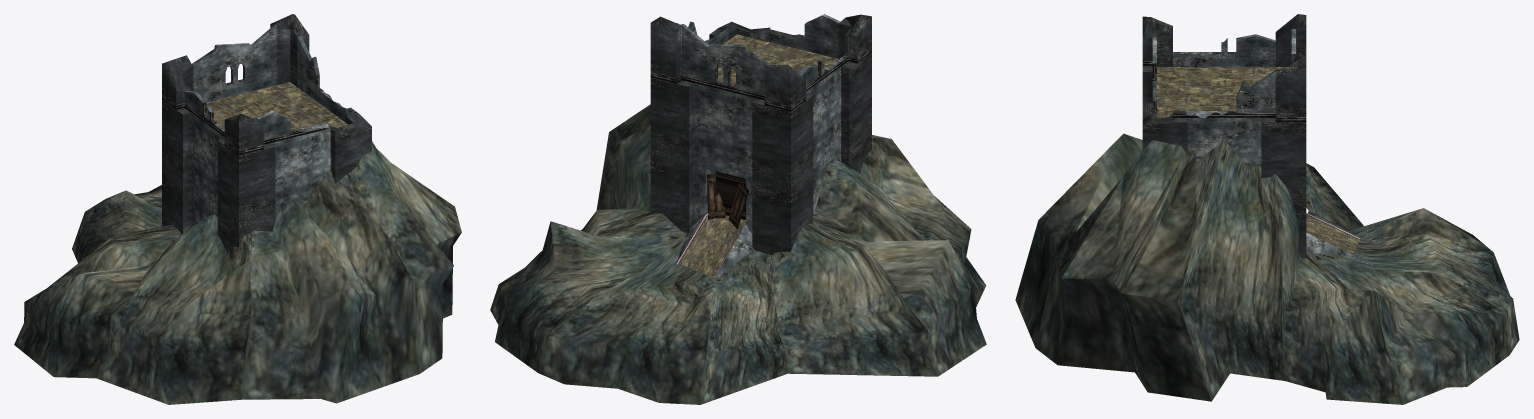
File: pir_m_prp_ocn_watchtower_eitcDestroyed.fbx
3 renders of one model, left to right at view 1: azimuth 30°, elevation 25°; view 2: azimuth 150°, elevation 25°; view 3: azimuth 270°, elevation 25°, orthographic. The views are drawn at different scales.
Visible parts, largest first — view 1: rock, tower_lower, tower_middle1, roof, rubble_1, tower_middle, tower_lower1, trim; view 2: rock, tower_lower, tower_middle, ramp, roof, rubble_1, tower_lower1, trim, door1, tower_middle1, door; view 3: rock, tower_lower, roof, tower_middle, rubble_1, tower_lower1, tower_middle1, ramp, trim.
Part boxes in pixels (x1,y1,x2,y2): rock: [14, 141, 461, 404]; tower_lower: [162, 99, 371, 253]; tower_middle1: [180, 26, 316, 91]; roof: [206, 82, 347, 130]; rubble_1: [162, 14, 371, 133]; tower_middle: [162, 24, 309, 150]; tower_lower1: [198, 70, 352, 124]; trim: [162, 94, 357, 155]; rock: [490, 104, 986, 404]; tower_lower: [650, 28, 871, 277]; tower_middle: [650, 16, 871, 106]; ramp: [679, 215, 745, 277]; roof: [718, 34, 838, 85]; rubble_1: [651, 14, 871, 79]; tower_lower1: [707, 28, 844, 58]; trim: [650, 28, 871, 111]; door1: [707, 174, 749, 229]; tower_middle1: [678, 15, 851, 47]; door: [715, 171, 745, 219]; rock: [1015, 133, 1519, 404]; tower_lower: [1142, 66, 1355, 258]; roof: [1157, 67, 1287, 118]; tower_middle: [1142, 26, 1306, 116]; rubble_1: [1142, 14, 1306, 125]; tower_lower1: [1157, 54, 1291, 66]; tower_middle1: [1157, 29, 1291, 53]; ramp: [1306, 215, 1359, 254]; trim: [1142, 60, 1306, 122].
Size of the model in its own units: 9575 by 6385 by 10144.
Materials: 1 (1 with a texture image).
